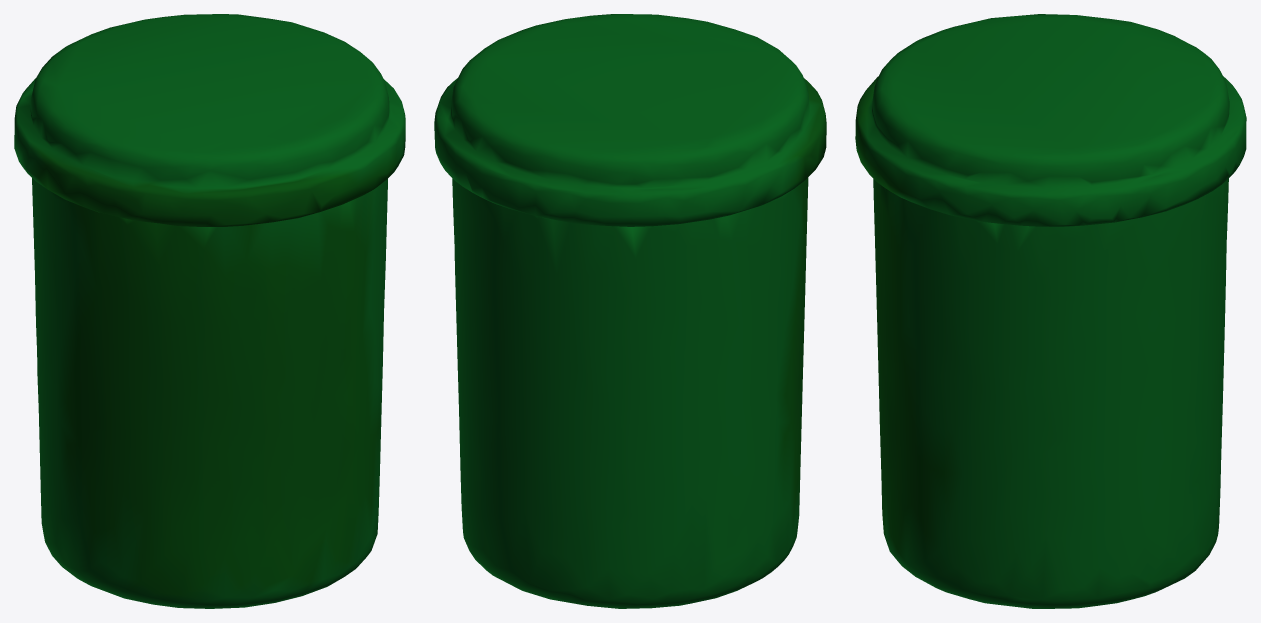
File: gen3d-street-trash-can-lod0.glb
3 renders of one model, left to right at view 1: azimuth 30°, elevation 25°; view 2: azimuth 150°, elevation 25°; view 3: azimuth 270°, elevation 25°, orthographic.
Parts seen in each view (by area): view 1: part_0; view 2: part_0; view 3: part_0.
Boxes of the visible parts, x1=… form: part_0: x1=14, y1=14, x2=405, y2=608; part_0: x1=434, y1=14, x2=826, y2=608; part_0: x1=855, y1=14, x2=1246, y2=608.
Bounding box in the file's own units: 0.8044 × 1.05 × 0.8048.
